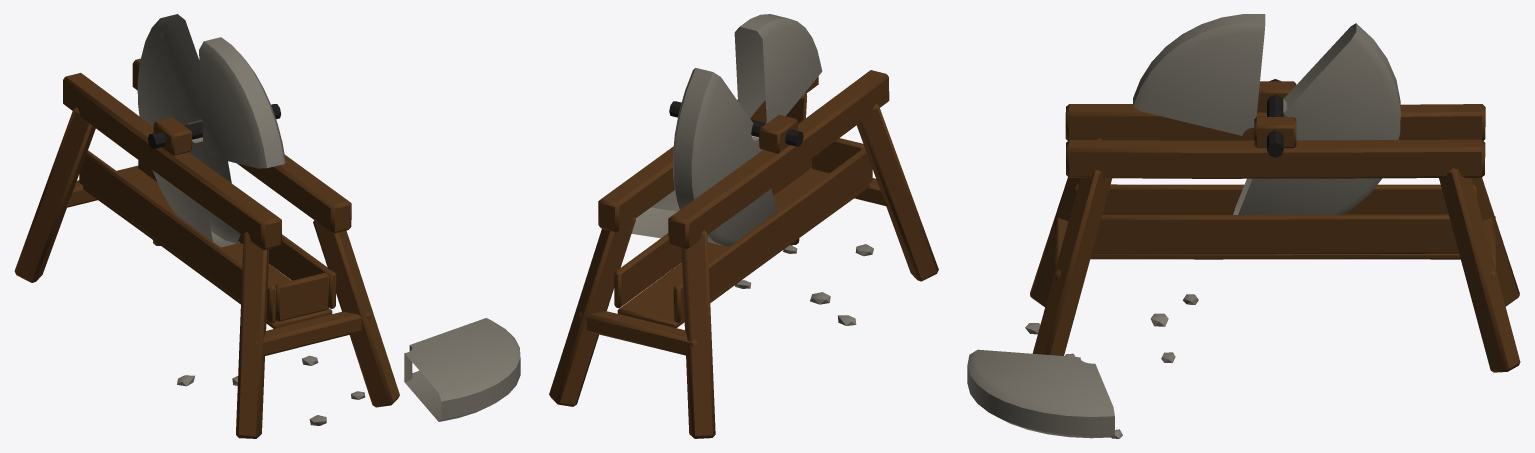
File: schleifstein_kaputt.glb
3 renders of one model, left to right at view 1: azimuth 30°, elevation 25°; view 2: azimuth 150°, elevation 25°; view 3: azimuth 270°, elevation 25°, orthographic. The views are drawn at different scales.
Parts seen in each view (by area): view 1: schleifstein_kaputt; view 2: schleifstein_kaputt; view 3: schleifstein_kaputt.
Part boxes in pixels (<box>): schleifstein_kaputt: <box>14,14,520,438</box>; schleifstein_kaputt: <box>549,14,938,438</box>; schleifstein_kaputt: <box>967,14,1520,438</box>.
Size of the model in its own units: 0.8385 by 0.8416 by 1.32.
